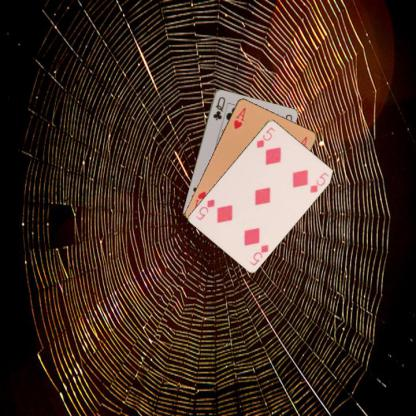5d: (247, 241, 270, 267), (254, 124, 276, 149)
Ah: (231, 105, 247, 130)
Qc: (210, 95, 226, 122)
